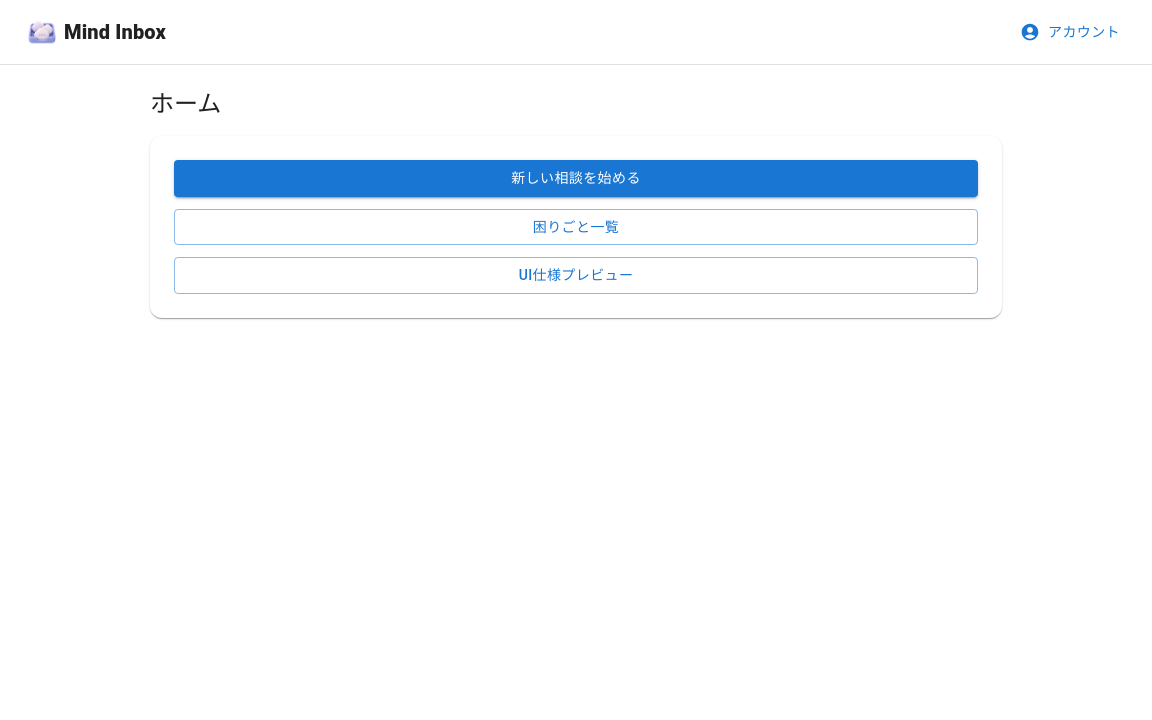
Test: [単体] Layout — 承認カードの結線 (#82 / G1 / dialogue-session.mdx §5.9) › 承認要求つきの応答でカードが出て、承認が api まで届き、カードが閉じる
Click the button "新しい相談を始める" at [576, 178], box [174, 160, 978, 196]
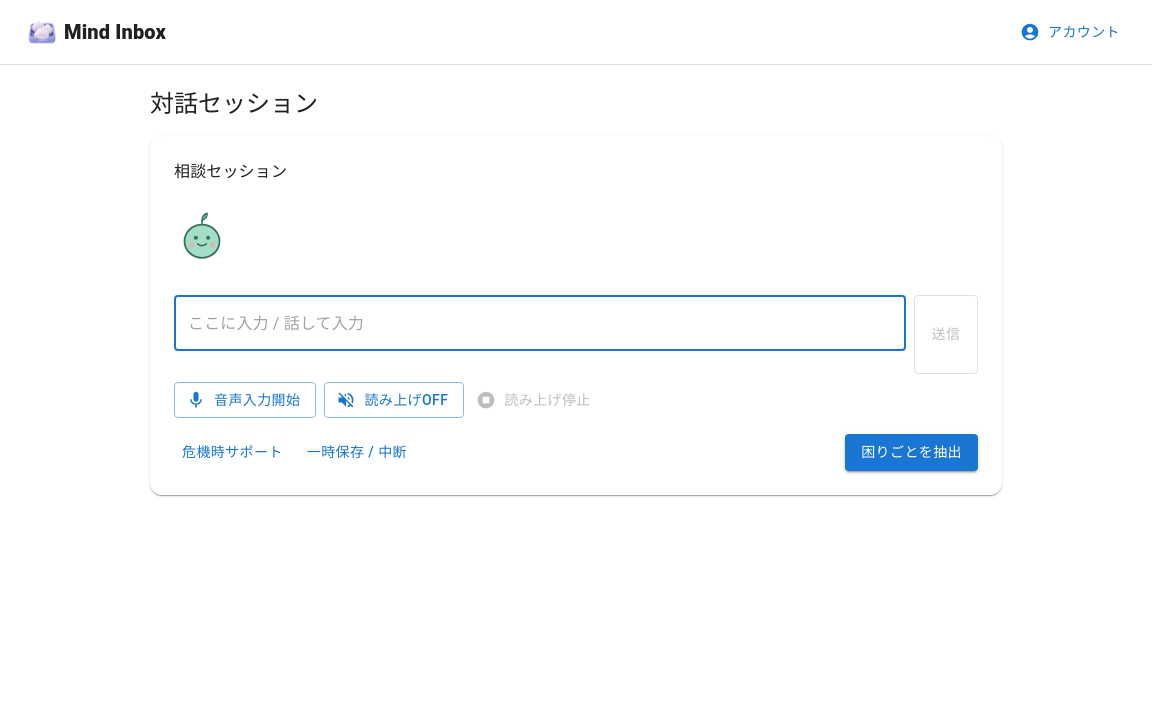
Type "この件、返信しておいて" into the text box with placeholder "ここに入力 / 話して入力" at [540, 323], box [188, 312, 892, 334]
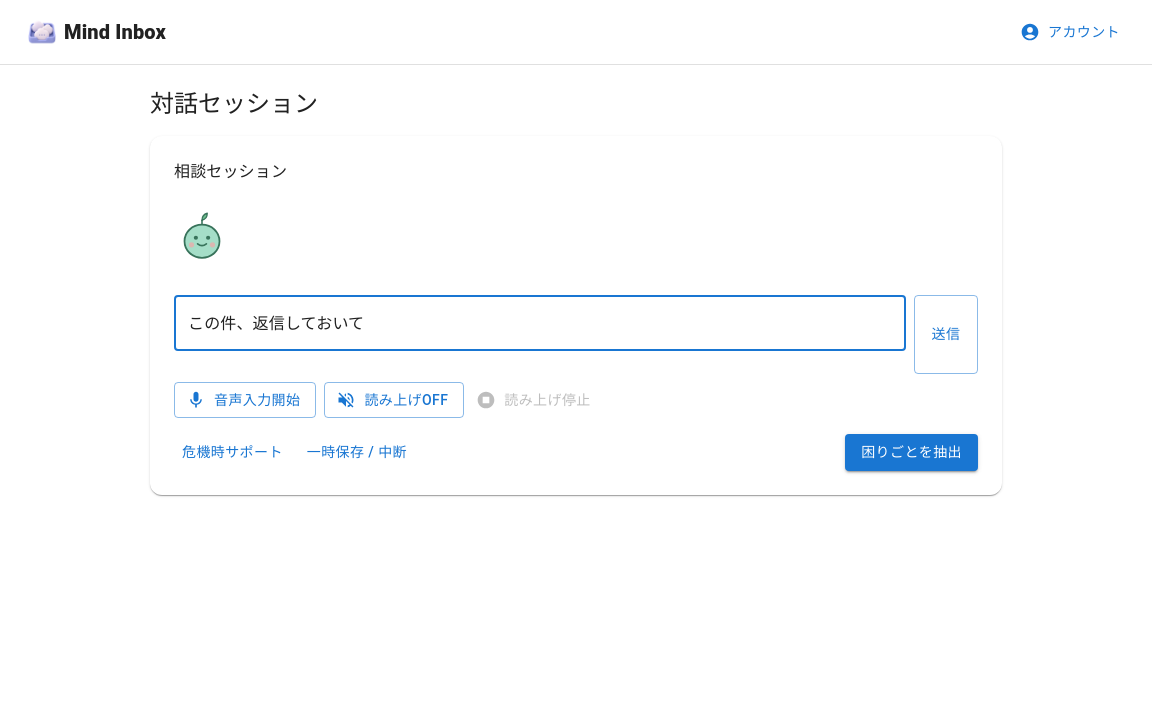
Click the button "送信" at [946, 334], box [914, 295, 978, 374]
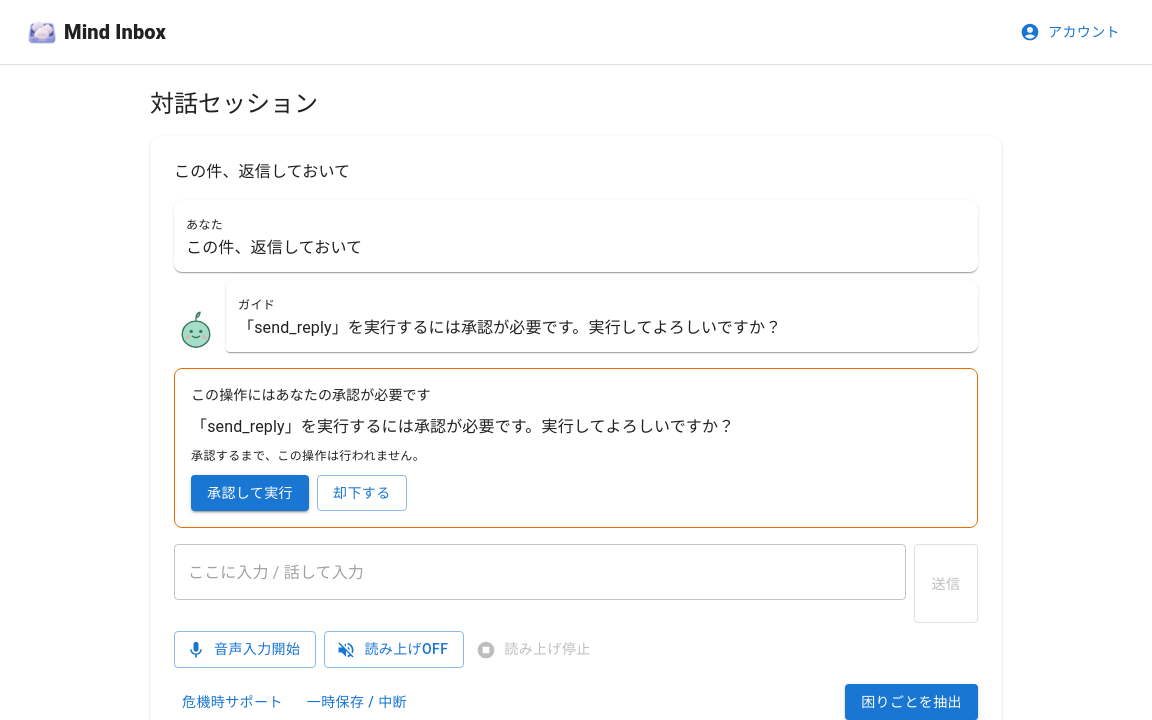
Result: the element with test id "approval-request" shows "send_reply" at [191, 417, 734, 436]
Click the button "承認して実行" at [250, 493], box [191, 475, 309, 511]
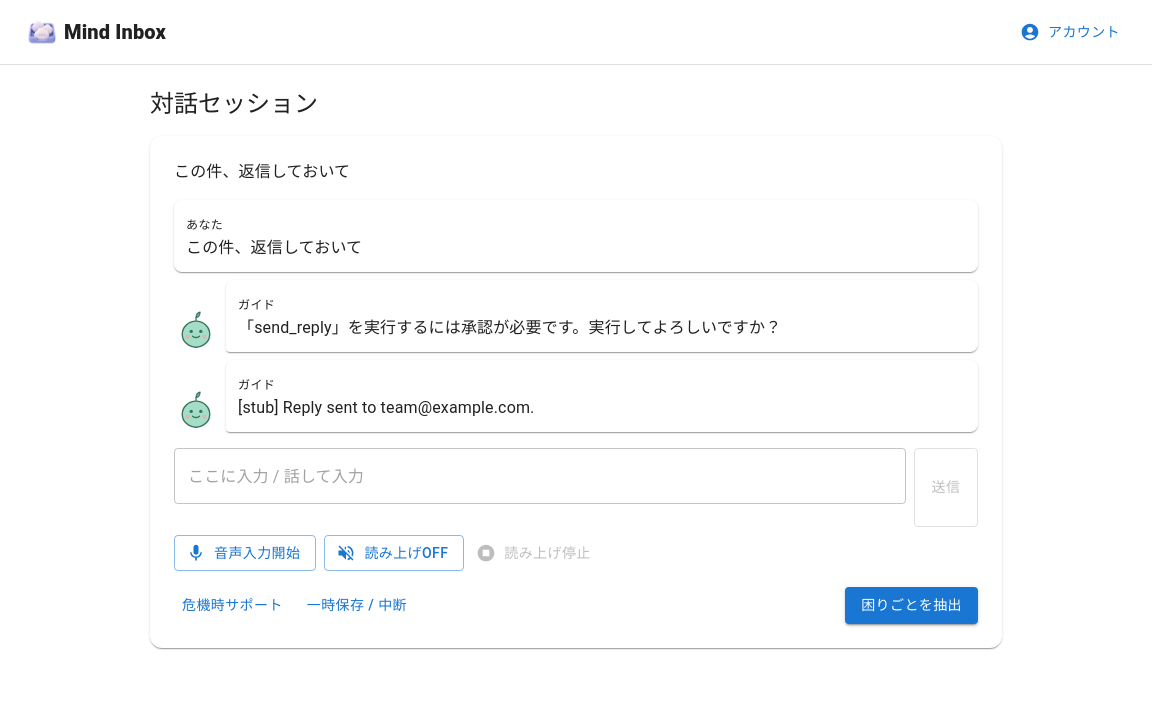
Result: the element with test id "approval-request" is gone
Result: the text "[stub] Reply sent to team@example.com." is shown at [238, 398, 534, 417]
